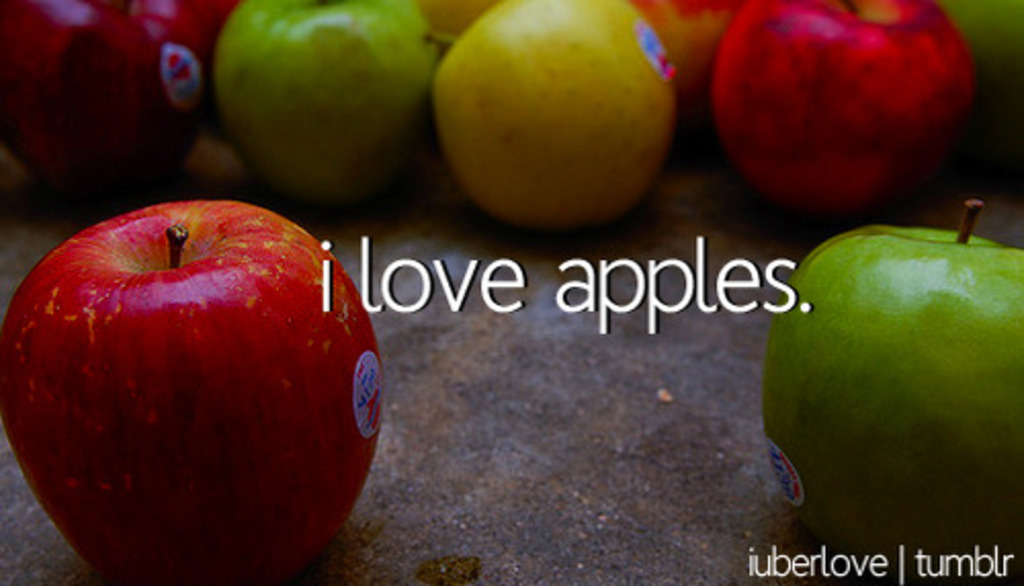Apple: (8, 192, 364, 583), (755, 196, 1021, 583), (706, 0, 974, 227), (421, 0, 673, 231), (210, 0, 438, 204), (0, 0, 212, 192), (933, 0, 1021, 202), (620, 0, 749, 98)
